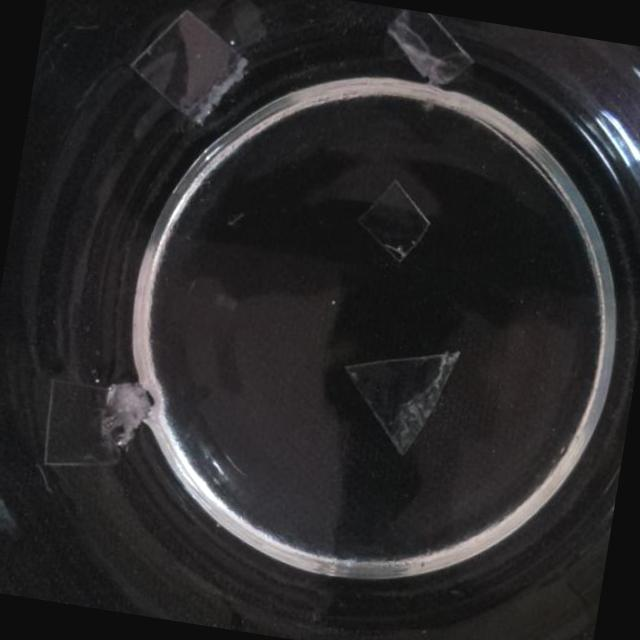fiber: (330, 334, 456, 460), (126, 7, 252, 125), (38, 374, 157, 482), (386, 8, 476, 84), (358, 178, 434, 258), (0, 469, 29, 533)
